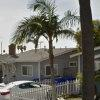Palm tree: (19, 4, 77, 78)
